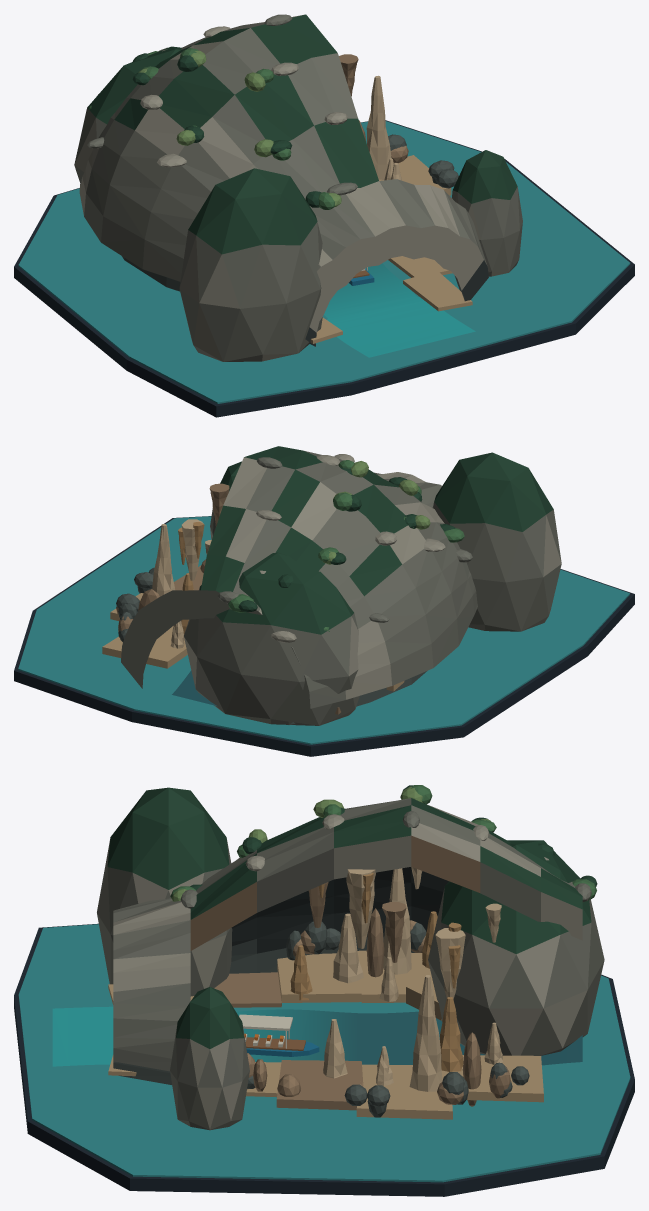
File: mysterios4.glb
3 views of the same model, one above another, from view 1: azimuth 30°, elevation 25°; view 2: azimuth 150°, elevation 25°; view 3: azimuth 270°, elevation 25° (orthographic). The views are drawn at different scales.
Parts seen in each view (by area): view 1: EXTERIOR_TERRAIN, BASE, UNDERGROUND_RIVER, CAVE_ENTRANCE, CAVE_FLOORS, VEGETATION, FLOWSTONE_AND_COLUMNS, CAVE_MAIN_CHAMBERS; view 2: EXTERIOR_TERRAIN, BASE, VEGETATION, CAVE_FLOORS, STALACTITES, CAVE_MAIN_CHAMBERS, FLOWSTONE_AND_COLUMNS, STALAGMITES, UNDERGROUND_RIVER; view 3: EXTERIOR_TERRAIN, BASE, CAVE_FLOORS, CAVE_MAIN_CHAMBERS, CUTAWAY_BOUNDARIES, UNDERGROUND_RIVER, STALAGMITES, FLOWSTONE_AND_COLUMNS, STALACTITES, VEGETATION, TOURIST_BOAT, CAVE_DRY_PASSAGES.
Part boxes in pixels (x1=…): EXTERIOR_TERRAIN: x1=74, y1=14, x2=522, y2=361; BASE: x1=14, y1=120, x2=634, y2=417; UNDERGROUND_RIVER: x1=324, y1=263, x2=475, y2=357; CAVE_ENTRANCE: x1=305, y1=225, x2=488, y2=346; CAVE_FLOORS: x1=310, y1=155, x2=472, y2=343; VEGETATION: x1=88, y1=48, x2=341, y2=209; FLOWSTONE_AND_COLUMNS: x1=359, y1=75, x2=391, y2=179; CAVE_MAIN_CHAMBERS: x1=122, y1=134, x2=464, y2=346; EXTERIOR_TERRAIN: x1=121, y1=446, x2=561, y2=725; BASE: x1=14, y1=516, x2=634, y2=756; VEGETATION: x1=228, y1=460, x2=464, y2=631; CAVE_FLOORS: x1=102, y1=565, x2=404, y2=714; STALACTITES: x1=178, y1=483, x2=229, y2=580; CAVE_MAIN_CHAMBERS: x1=116, y1=559, x2=426, y2=724; FLOWSTONE_AND_COLUMNS: x1=138, y1=524, x2=174, y2=610; STALAGMITES: x1=170, y1=573, x2=193, y2=648; UNDERGROUND_RIVER: x1=172, y1=670, x2=217, y2=706; EXTERIOR_TERRAIN: x1=97, y1=787, x2=604, y2=1130; BASE: x1=14, y1=923, x2=634, y2=1196; CAVE_FLOORS: x1=108, y1=950, x2=543, y2=1119; CAVE_MAIN_CHAMBERS: x1=113, y1=867, x2=529, y2=1117; CUTAWAY_BOUNDARIES: x1=190, y1=835, x2=582, y2=950; UNDERGROUND_RIVER: x1=52, y1=1006, x2=582, y2=1066; STALAGMITES: x1=290, y1=911, x2=502, y2=1085; FLOWSTONE_AND_COLUMNS: x1=366, y1=868, x2=481, y2=1106; STALACTITES: x1=308, y1=867, x2=501, y2=999; VEGETATION: x1=170, y1=785, x2=597, y2=902; TOURIST_BOAT: x1=239, y1=1014, x2=319, y2=1056; CAVE_DRY_PASSAGES: x1=406, y1=958, x2=441, y2=1020.
Bounding box in the file's own units: 22.9 × 11.82 × 22.5.
